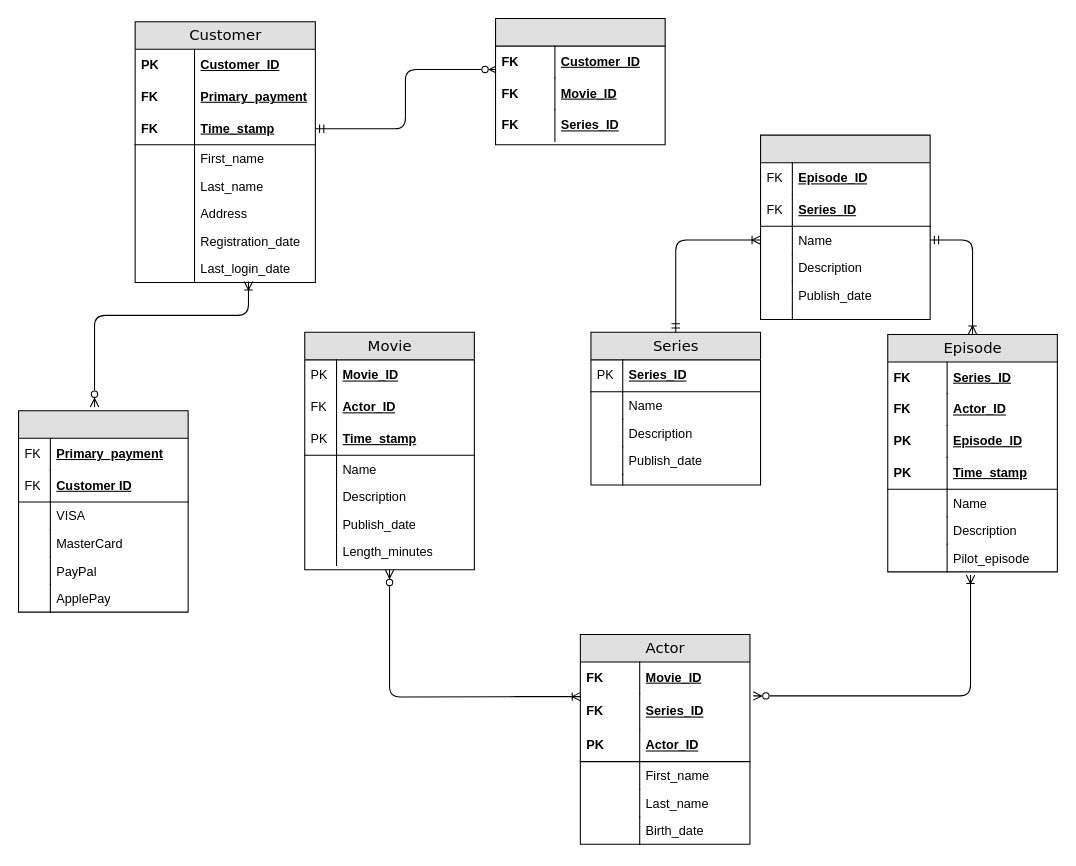
Some shapes in this 1076 by 866 pixel diagram are drawn without their labels. Each missing label, with the box of its shape:
Payment method: (17, 410, 188, 612)
Seasons: (759, 134, 930, 320)
Watchlist: (494, 17, 665, 145)
